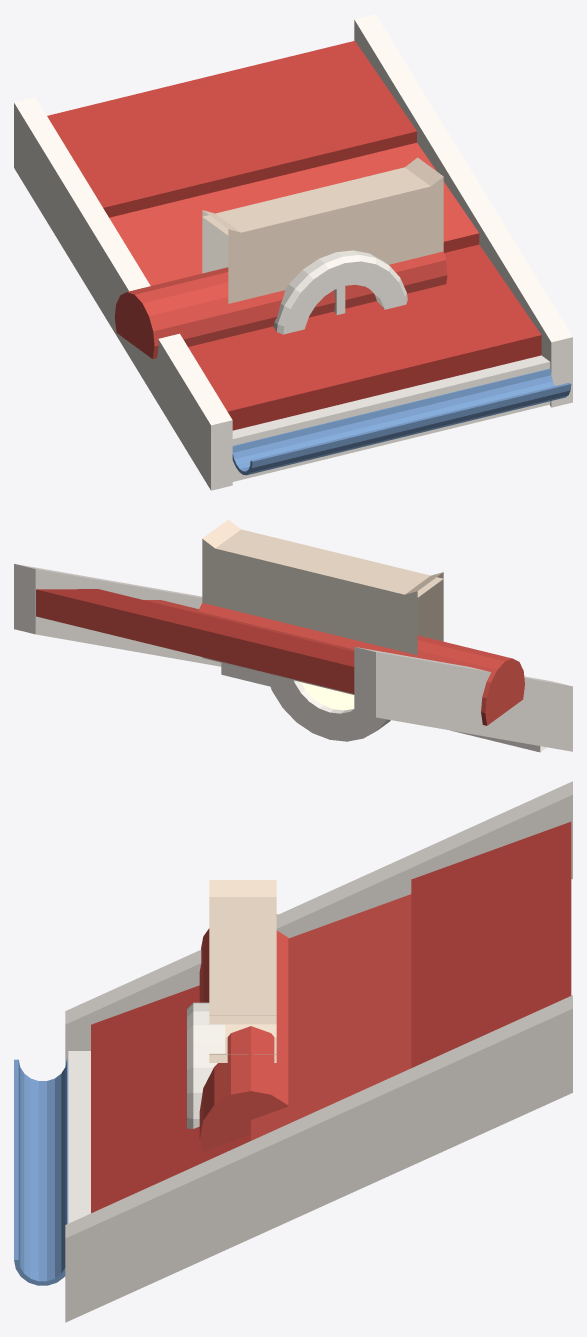
The model's file is casa-telhado.glb.
The picture shows the model from 3 angles, top to bottom: view 1: azimuth 30°, elevation 25°; view 2: azimuth 150°, elevation 25°; view 3: azimuth 270°, elevation 25°; orthographic projection. The views are drawn at different scales.
Visible parts, largest first — view 1: agua, beiral, testeira-esq, testeira-dir, testeira-beiral-esq, testeira-beiral-dir, oitao-faixa, cumeeira-ponta, vigia, oitao-esq, cumeeira, oitao-dir (+2 smaller); view 2: oitao-faixa, agua, testeira-esq, testeira-dir, oitao-esq, oitao-dir, testeira-beiral-esq, vigia, cumeeira-ponta, testeira-meia-esq, cumeeira, testeira-beiral-dir (+1 smaller); view 3: agua, testeira-dir, beiral, testeira-beiral-dir, testeira-esq, testeira-beiral-esq, cumeeira, oitao-faixa, testeira-meia-dir, vigia, testeira-meia-esq, oitao-esq (+1 smaller).
Boxes of the visible parts, left/top/right/bottom form: agua: left=88, top=53, right=377, bottom=274; beiral: left=231, top=284, right=519, bottom=469; testeira-esq: left=14, top=97, right=195, bottom=372; testeira-dir: left=303, top=14, right=499, bottom=252; testeira-beiral-esq: left=139, top=333, right=304, bottom=490; testeira-beiral-dir: left=444, top=218, right=572, bottom=416; oitao-faixa: left=202, top=167, right=443, bottom=283; cumeeira-ponta: left=114, top=273, right=231, bottom=358; vigia: left=273, top=250, right=407, bottom=334; oitao-esq: left=202, top=210, right=323, bottom=303; cumeeira: left=205, top=251, right=447, bottom=336; oitao-dir: left=372, top=157, right=443, bottom=264; oitao-faixa: left=202, top=529, right=443, bottom=670; agua: left=88, top=601, right=354, bottom=681; testeira-esq: left=303, top=647, right=500, bottom=738; testeira-dir: left=14, top=564, right=198, bottom=655; oitao-esq: left=206, top=572, right=443, bottom=670; oitao-dir: left=202, top=519, right=321, bottom=670; testeira-beiral-esq: left=488, top=676, right=572, bottom=752; vigia: left=266, top=673, right=390, bottom=741; cumeeira-ponta: left=416, top=639, right=524, bottom=725; testeira-meia-esq: left=420, top=658, right=500, bottom=738; cumeeira: left=197, top=603, right=434, bottom=657; testeira-beiral-dir: left=141, top=586, right=270, bottom=686; agua: left=288, top=854, right=571, bottom=1105; testeira-dir: left=249, top=989, right=572, bottom=1238; beiral: left=14, top=1022, right=202, bottom=1248; testeira-beiral-dir: left=14, top=1134, right=252, bottom=1322; testeira-esq: left=276, top=781, right=572, bottom=970; testeira-beiral-esq: left=14, top=950, right=201, bottom=1113; cumeeira: left=199, top=963, right=288, bottom=1151; oitao-faixa: left=209, top=897, right=276, bottom=1024; testeira-meia-dir: left=249, top=1068, right=412, bottom=1237; vigia: left=187, top=1002, right=225, bottom=1128; testeira-meia-esq: left=276, top=856, right=412, bottom=937; oitao-esq: left=209, top=880, right=276, bottom=1037.
Bounding box in the file's own units: 1.7 × 1.08 × 1.75.
